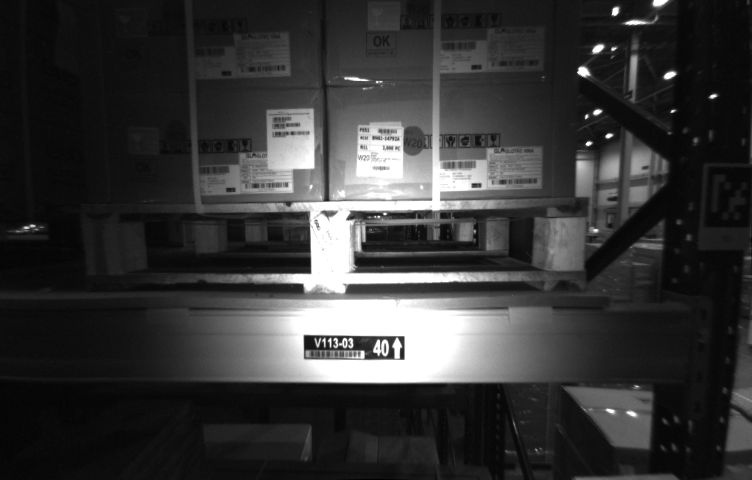True Barcode: (358, 120, 403, 178)
